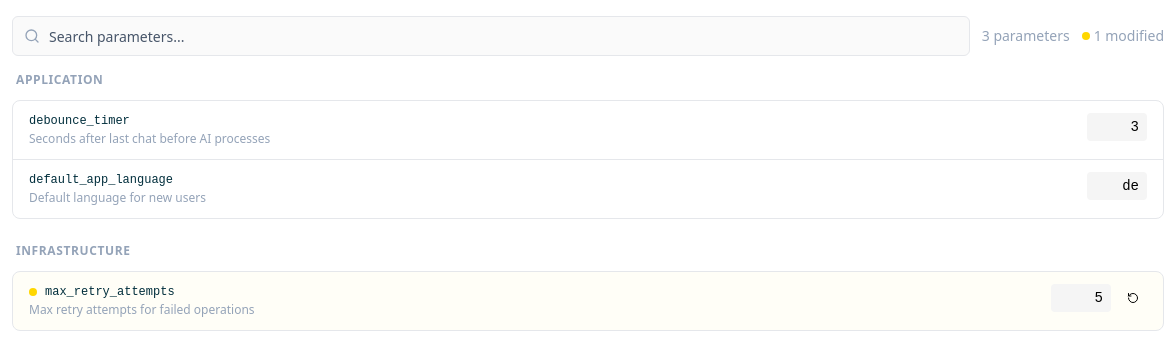
Test case: ParametersTab — UI-ADMIN.02: Parameters tab shows editable fields › enters edit mode on double-click and shows input with current value
Double-click the button with test id "value-debounce_timer" at coordinates (1117, 127), box [1087,113,1147,141]
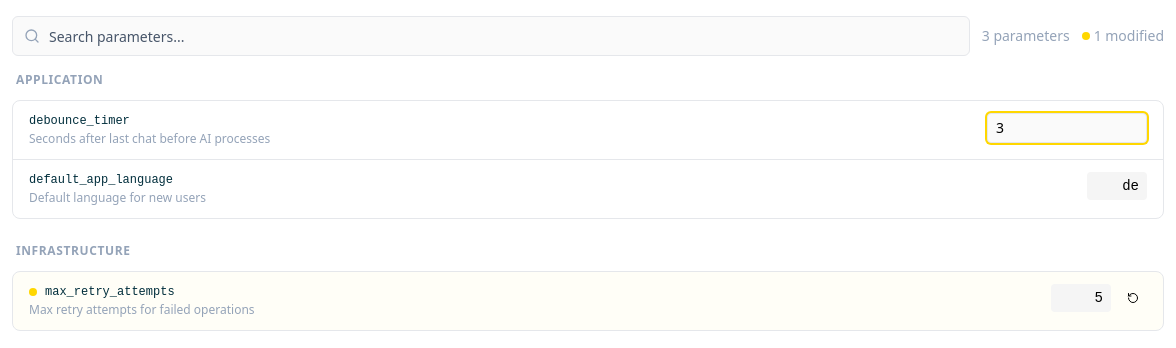
Check: the field with test id "edit-input-debounce_timer" holds "3", box [987,113,1147,143]
